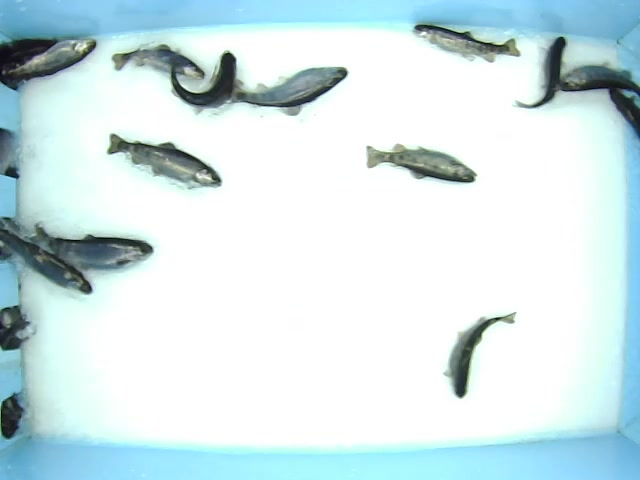fish: (106, 129, 226, 191), (443, 310, 521, 398), (1, 227, 96, 295), (28, 220, 156, 270), (231, 66, 349, 116), (412, 16, 520, 67), (365, 142, 478, 186), (1, 37, 97, 84), (170, 48, 239, 112), (517, 35, 569, 110), (111, 45, 206, 79), (553, 62, 640, 99)
